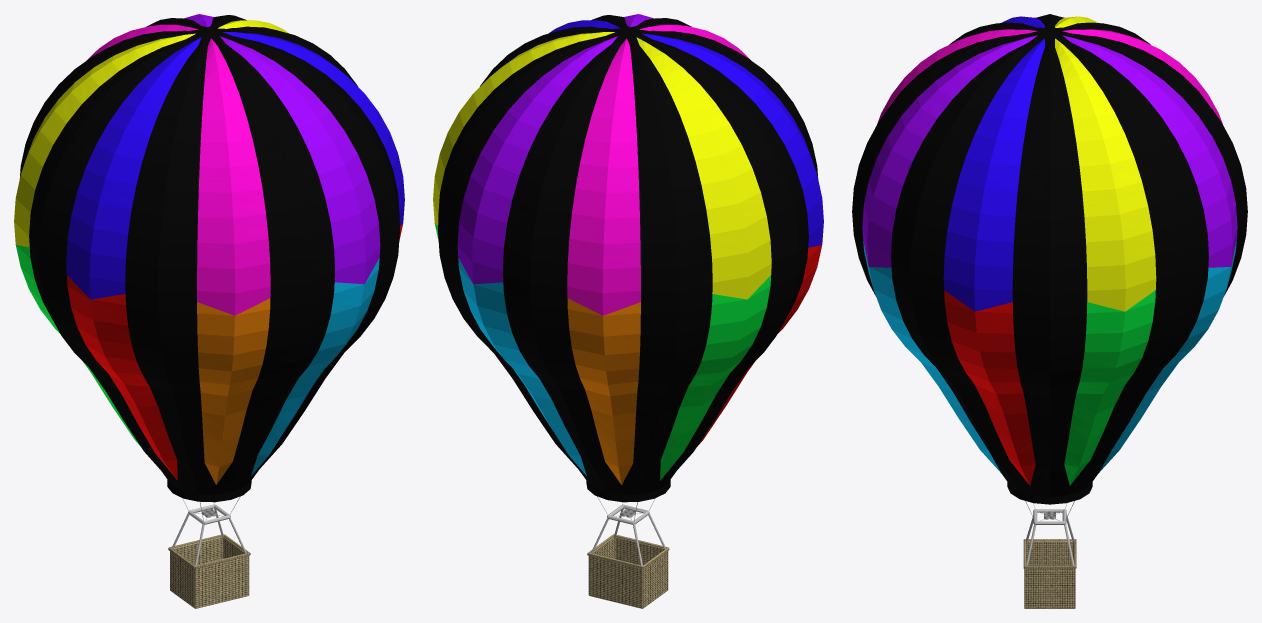
Rendered from balloon.obj.
3 renders of one model, left to right at view 1: azimuth 30°, elevation 25°; view 2: azimuth 150°, elevation 25°; view 3: azimuth 270°, elevation 25°, orthographic.
Visible parts, largest first — view 1: Hot Air Balloon_3173; view 2: Hot Air Balloon_3173; view 3: Hot Air Balloon_3173.
Part boxes in pixels (x1,y1,x2,y2): Hot Air Balloon_3173: (14,14,404,608); Hot Air Balloon_3173: (433,14,823,608); Hot Air Balloon_3173: (852,14,1247,608).
Bounding box in the file's own units: 3.79 × 5.96 × 3.79.
